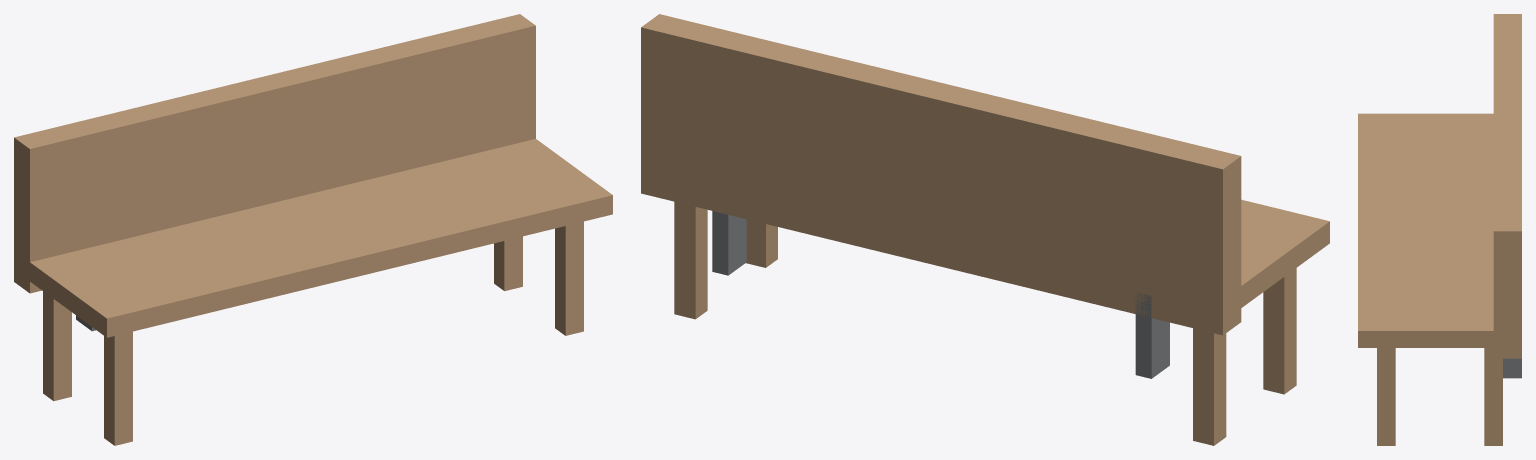
The model's file is bench.glb.
3 renders of one model, left to right at view 1: azimuth 30°, elevation 25°; view 2: azimuth 150°, elevation 25°; view 3: azimuth 270°, elevation 25°, orthographic. The views are drawn at different scales.
Visible parts, largest first — view 1: BenchBack, BenchSeat, BenchLeg_-0.98_-0.23, BenchLeg_0.98_-0.23, BenchLeg_-0.98_0.23, BenchLeg_0.98_0.23; view 2: BenchBack, BenchSeat, BenchLeg_-0.98_-0.23, BenchLeg_-0.98_0.23, BenchLeg_0.98_0.23, BenchBracket_-0.80, BenchBracket_0.80, BenchLeg_0.98_-0.23; view 3: BenchSeat, BenchBack, BenchLeg_0.98_-0.23, BenchLeg_0.98_0.23, BenchBracket_0.80.
Boxes of the visible parts, left/top/right/bottom form: BenchBack: left=14, top=14, right=535, bottom=293; BenchSeat: left=14, top=139, right=612, bottom=337; BenchLeg_-0.98_-0.23: left=104, top=331, right=132, bottom=445; BenchLeg_0.98_-0.23: left=555, top=221, right=583, bottom=335; BenchLeg_-0.98_0.23: left=43, top=291, right=71, bottom=401; BenchLeg_0.98_0.23: left=494, top=236, right=522, bottom=291; BenchBack: left=641, top=14, right=1241, bottom=335; BenchSeat: left=641, top=158, right=1329, bottom=321; BenchLeg_-0.98_-0.23: left=1263, top=268, right=1296, bottom=394; BenchLeg_-0.98_0.23: left=1193, top=328, right=1226, bottom=445; BenchLeg_0.98_0.23: left=674, top=201, right=707, bottom=319; BenchBracket_-0.80: left=1135, top=292, right=1169, bottom=378; BenchBracket_0.80: left=712, top=211, right=746, bottom=275; BenchLeg_0.98_-0.23: left=746, top=219, right=777, bottom=267; BenchSeat: left=1358, top=113, right=1521, bottom=347; BenchBack: left=1493, top=14, right=1521, bottom=358; BenchLeg_0.98_-0.23: left=1377, top=348, right=1395, bottom=445; BenchLeg_0.98_0.23: left=1484, top=348, right=1502, bottom=445; BenchBracket_0.80: left=1503, top=358, right=1521, bottom=378.
Size of the model in its own units: 2.2 by 1.05 by 0.7.
